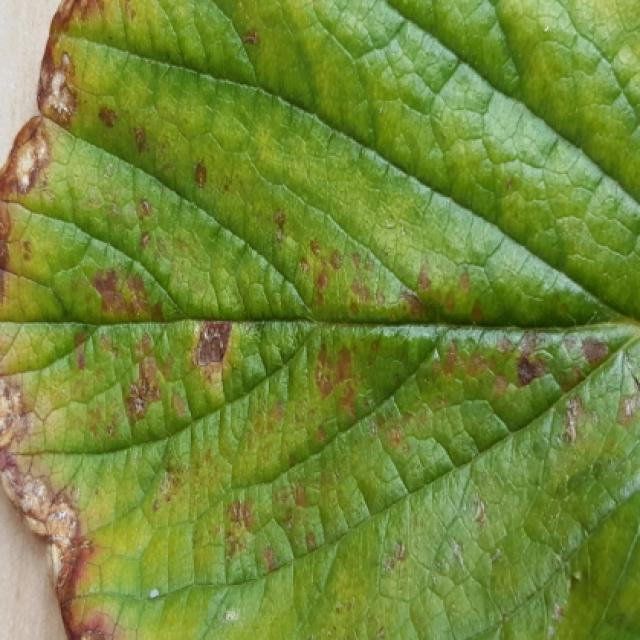Angular Leafspot: (0, 0, 638, 638)
